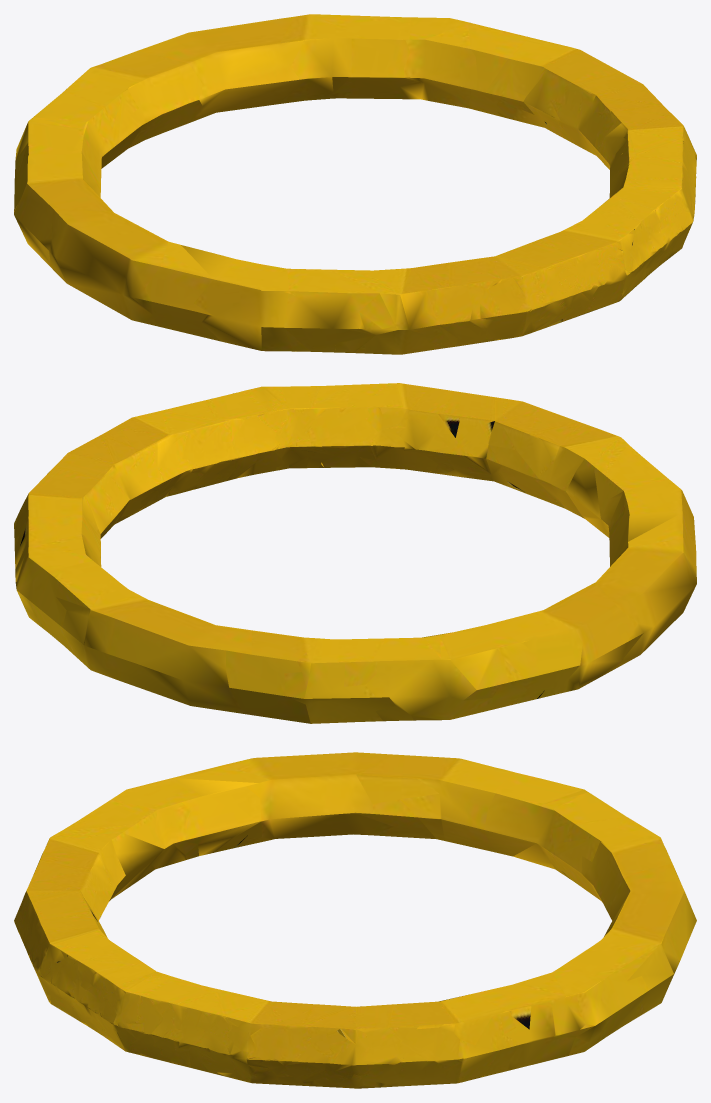
The model's file is cos-halo.glb.
3 renders of one model, top to bottom at view 1: azimuth 30°, elevation 25°; view 2: azimuth 150°, elevation 25°; view 3: azimuth 270°, elevation 25°, orthographic.
Visible parts, largest first — view 1: output_unwrapped; view 2: output_unwrapped; view 3: output_unwrapped.
Boxes of the visible parts, box(x1,y1,x2,y2) form: output_unwrapped: box(14, 14, 696, 354); output_unwrapped: box(14, 383, 696, 723); output_unwrapped: box(14, 752, 696, 1088).
Size of the model in its own units: 1.9 by 0.1858 by 1.9.
1 material, 1 textured.
